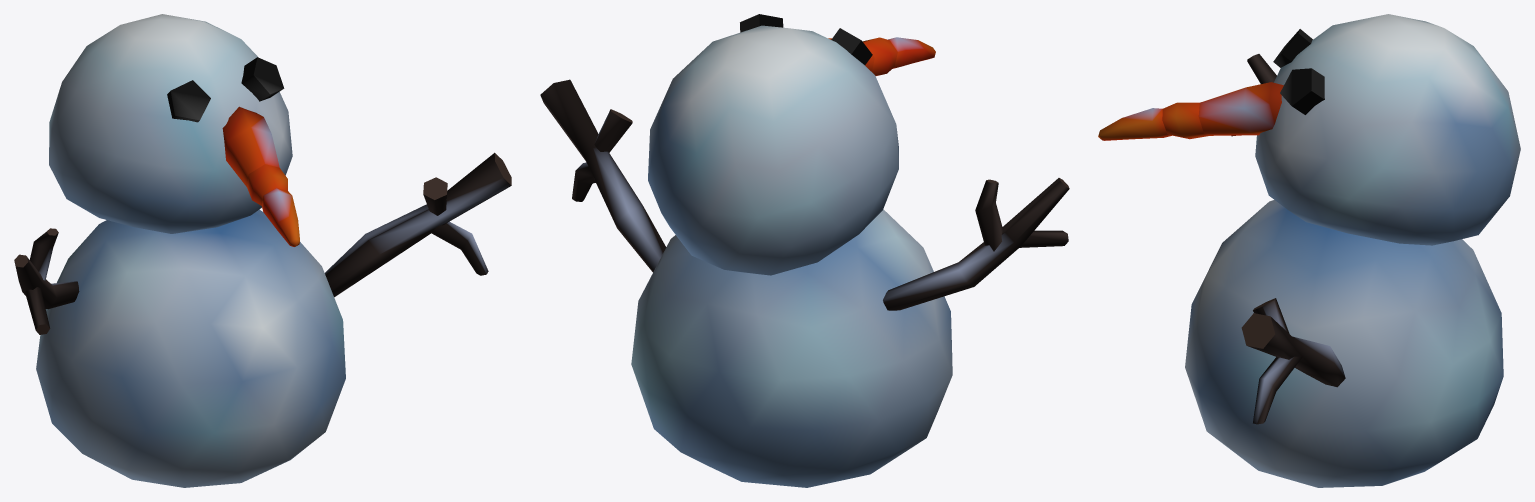
Rendered from Snowman_01.fbx.
3 views of the same model, side by side, from view 1: azimuth 30°, elevation 25°; view 2: azimuth 150°, elevation 25°; view 3: azimuth 270°, elevation 25° (orthographic). The views are drawn at different scales.
Parts seen in each view (by area): view 1: Snowman_01; view 2: Snowman_01; view 3: Snowman_01.
Part boxes in pixels (x1,y1,x2,y2): Snowman_01: (14,14,511,487); Snowman_01: (540,14,1069,487); Snowman_01: (1098,14,1520,487).
Size of the model in its own units: 1457 by 1171 by 1032.
